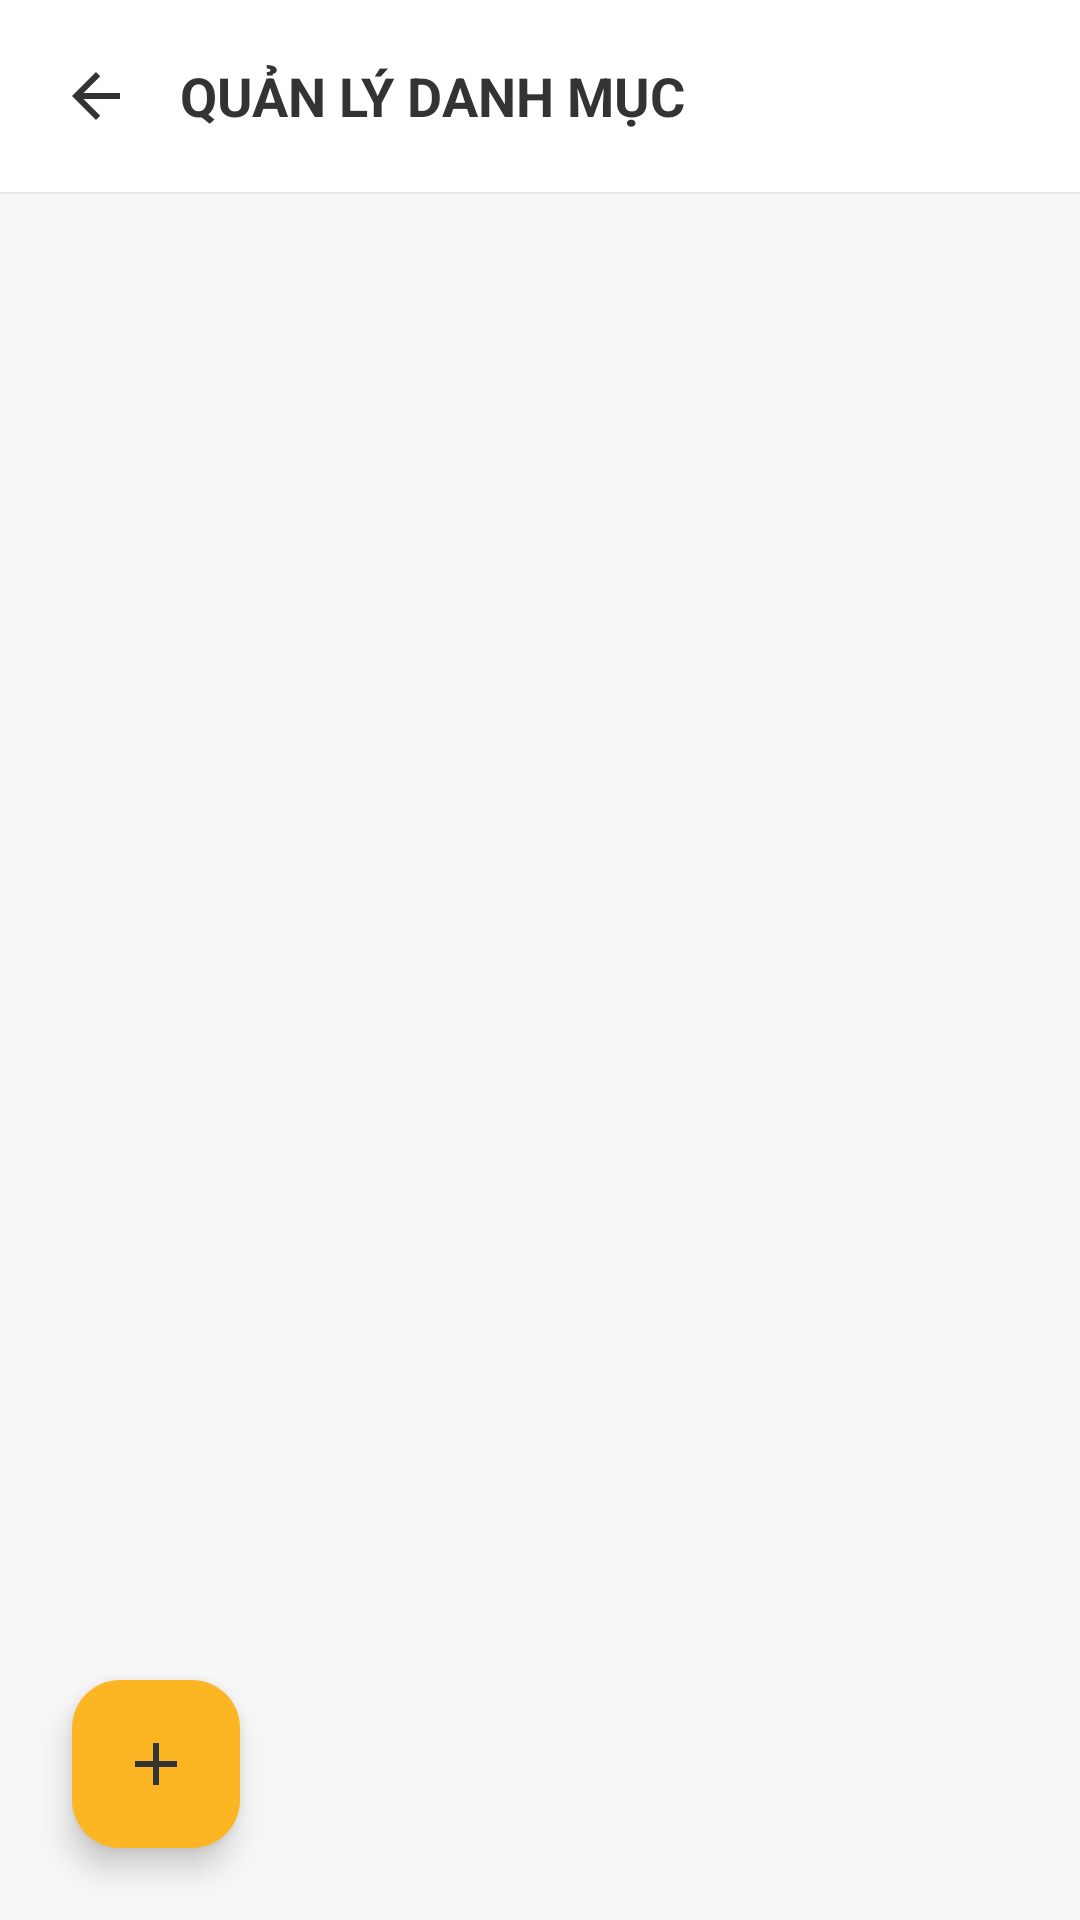

Named icons in this screenshot (1080 × 1920) and their bounding boxes, box=[x1, y1, x2, y2]:
Quay lại: box=[72, 72, 120, 120]
Thêm danh mục mới: box=[72, 1680, 240, 1848]
